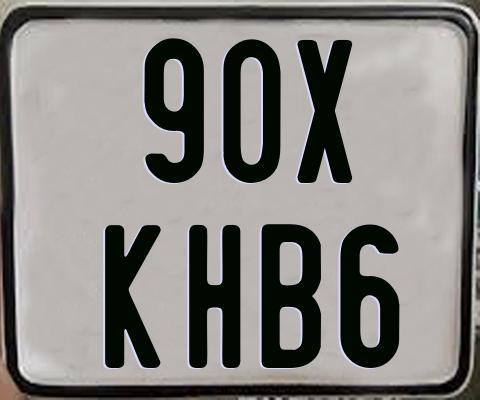0: (220, 37, 283, 187)
6: (337, 221, 401, 368)
9: (142, 35, 203, 184)
B: (262, 222, 324, 367)
H: (188, 224, 242, 372)
K: (102, 223, 161, 366)
X: (294, 37, 349, 182)
